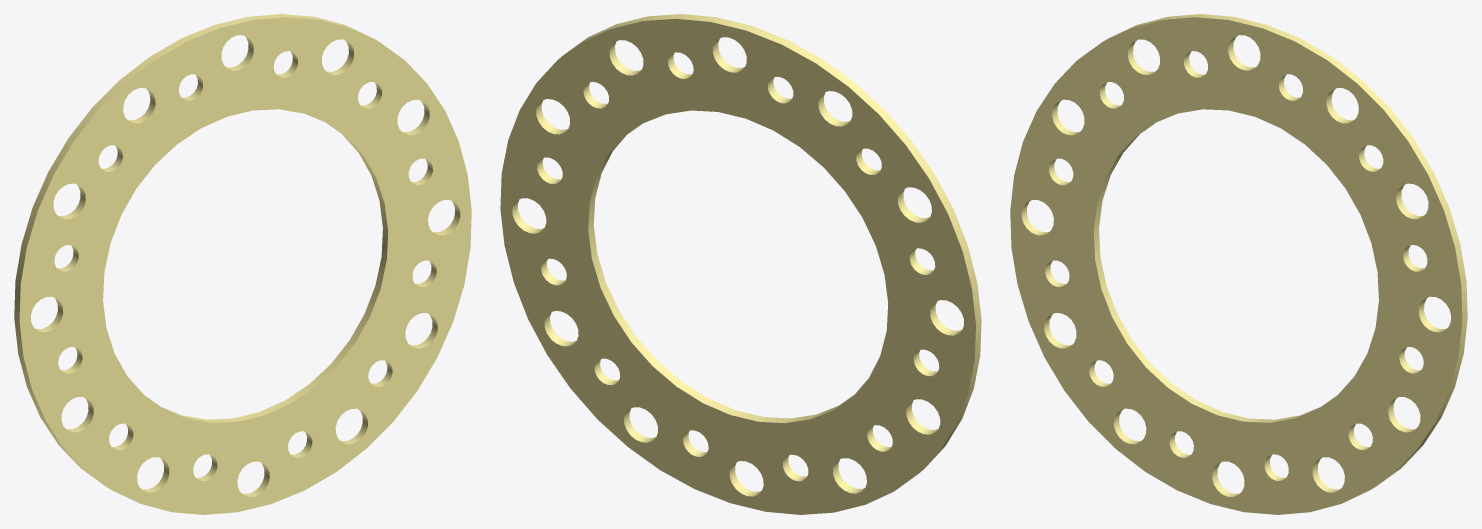
3 views of the same model, side by side, from view 1: azimuth 30°, elevation 25°; view 2: azimuth 150°, elevation 25°; view 3: azimuth 330°, elevation 25° (orthographic). The views are drawn at different scales.
Visible parts, largest first — view 1: 0C6E641F3DC18749666DF3C59C03E7384C05AFCA|:|B4E743B3CF29_a901; view 2: 0C6E641F3DC18749666DF3C59C03E7384C05AFCA|:|B4E743B3CF29_a901; view 3: 0C6E641F3DC18749666DF3C59C03E7384C05AFCA|:|B4E743B3CF29_a901.
Part boxes in pixels (x1=…): 0C6E641F3DC18749666DF3C59C03E7384C05AFCA|:|B4E743B3CF29_a901: x1=14, y1=14, x2=471, y2=514; 0C6E641F3DC18749666DF3C59C03E7384C05AFCA|:|B4E743B3CF29_a901: x1=500, y1=14, x2=981, y2=514; 0C6E641F3DC18749666DF3C59C03E7384C05AFCA|:|B4E743B3CF29_a901: x1=1010, y1=14, x2=1467, y2=514.
Size of the model in its own units: 222 by 221 by 19.93.
